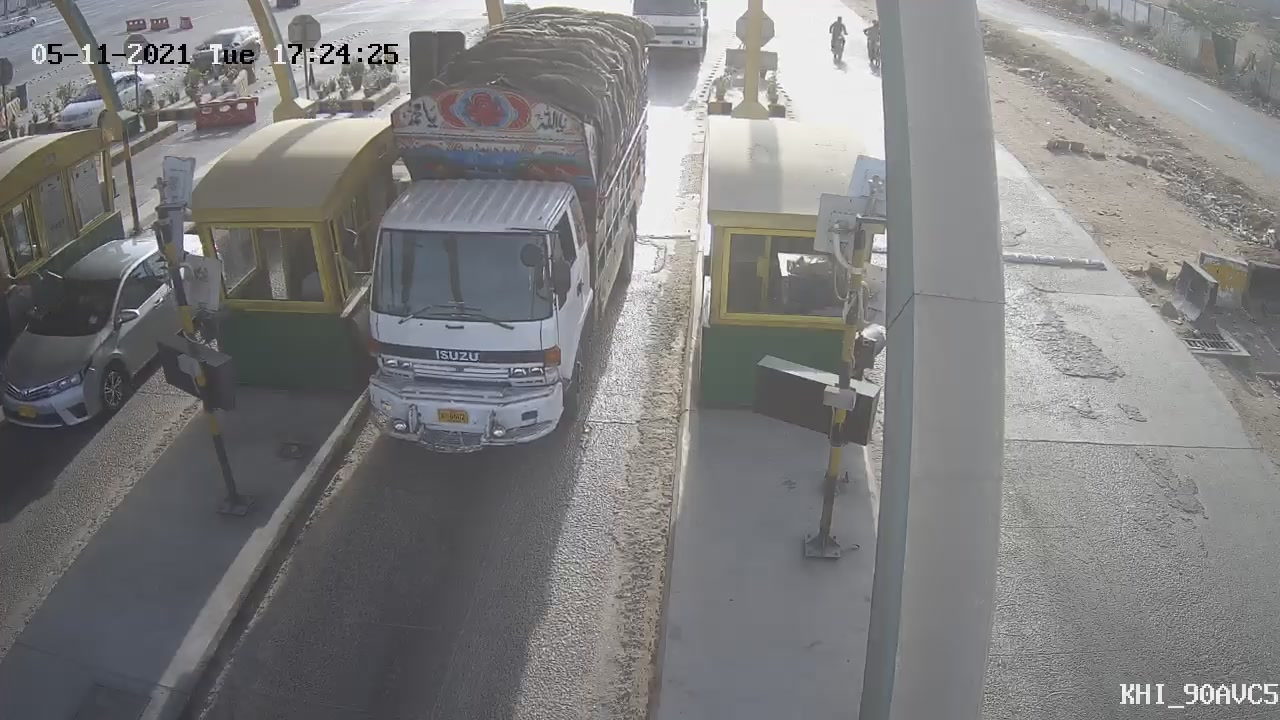F5: (318, 3, 686, 496)
